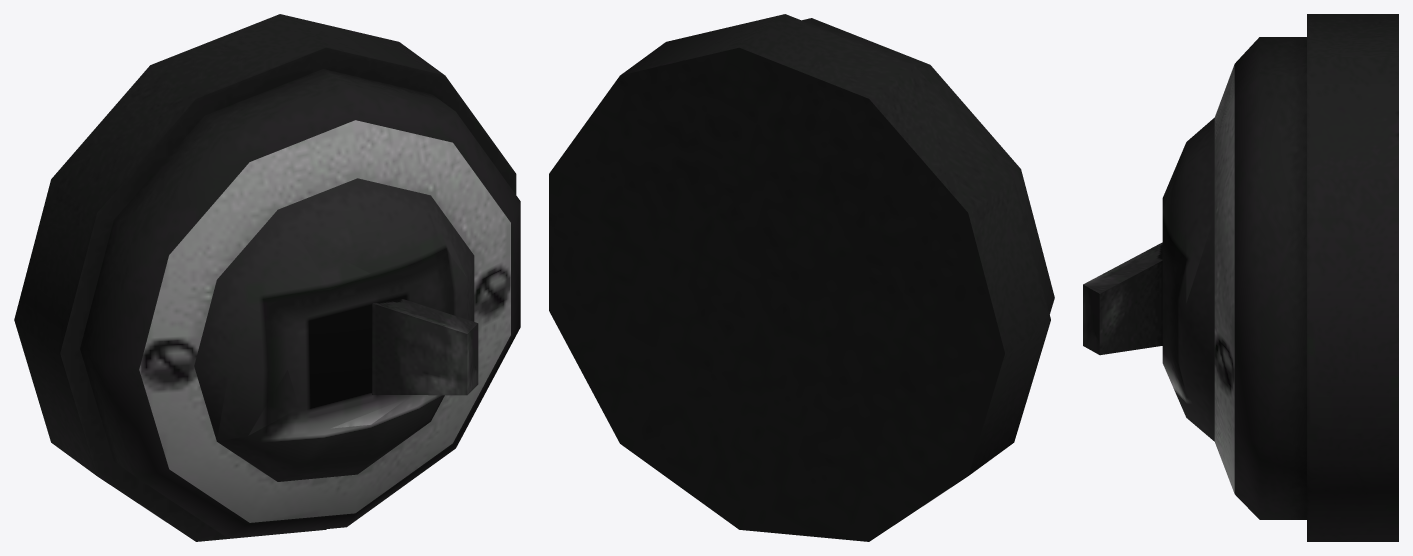
Rendered from WallLight_Switch.FBX.
3 renders of one model, left to right at view 1: azimuth 30°, elevation 25°; view 2: azimuth 150°, elevation 25°; view 3: azimuth 270°, elevation 25°, orthographic.
Visible parts, largest first — view 1: sm_lightswitch; view 2: sm_lightswitch; view 3: sm_lightswitch.
Part boxes in pixels (bbox=[...]): sm_lightswitch: bbox=[14, 14, 520, 541]; sm_lightswitch: bbox=[549, 14, 1054, 541]; sm_lightswitch: bbox=[1083, 14, 1398, 541].
Bounding box in the file's own units: 14.05 × 14.19 × 8.42.
Materials: 1 (1 with a texture image).
